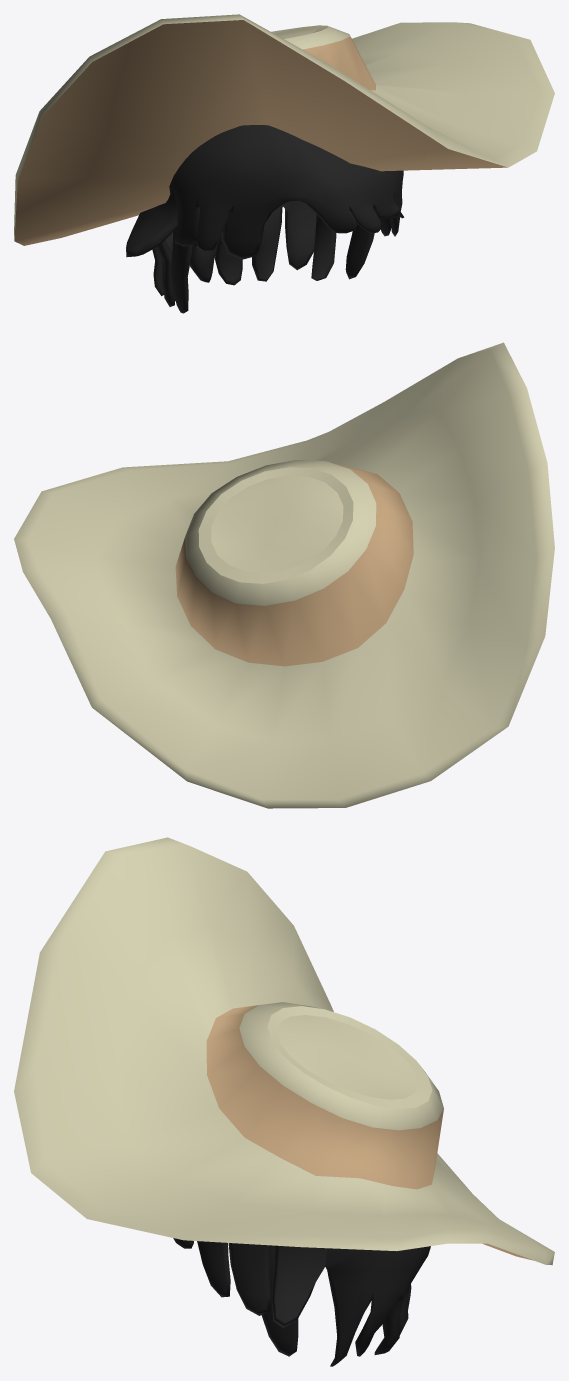
Rendered from fbx_hair_hat_v3.fbx.
3 renders of one model, top to bottom at view 1: azimuth 30°, elevation 25°; view 2: azimuth 150°, elevation 25°; view 3: azimuth 270°, elevation 25°, orthographic. The views are drawn at different scales.
Visible parts, largest first — view 1: rg_gardener_v1:obj_hat_v1:md_hat1; view 2: rg_gardener_v1:obj_hat_v1:md_hat1; view 3: rg_gardener_v1:obj_hat_v1:md_hat1.
Part boxes in pixels (bbox=[...]): rg_gardener_v1:obj_hat_v1:md_hat1: bbox=[14, 14, 554, 313]; rg_gardener_v1:obj_hat_v1:md_hat1: bbox=[14, 342, 554, 808]; rg_gardener_v1:obj_hat_v1:md_hat1: bbox=[14, 837, 554, 1366].
Size of the model in its own units: 93.16 by 67.94 by 77.89.
